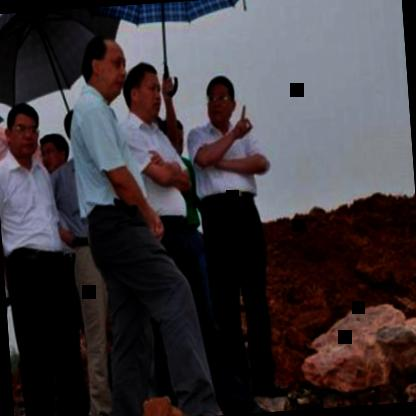head: (81, 31, 130, 106), (122, 58, 166, 124), (4, 100, 44, 164), (200, 74, 240, 128), (35, 126, 70, 175)
